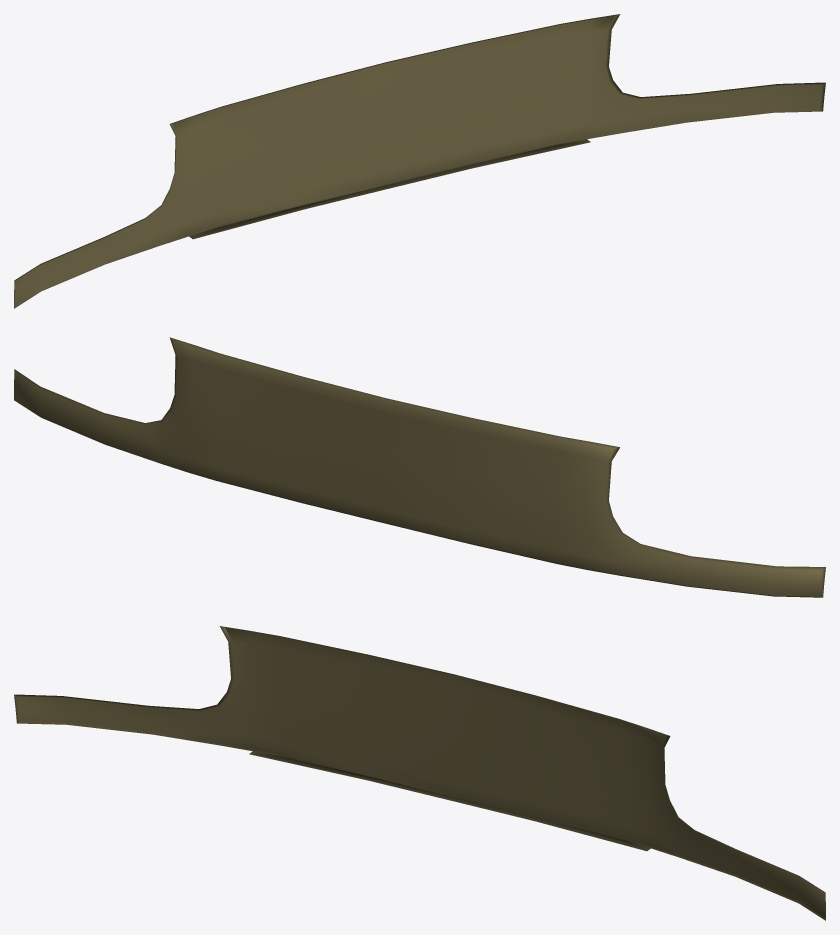
Rendered from MX5_BrakeLight02_Duco.fbx.
3 views of the same model, one above another, from view 1: azimuth 30°, elevation 25°; view 2: azimuth 150°, elevation 25°; view 3: azimuth 330°, elevation 25° (orthographic).
Visible parts, largest first — view 1: MX5_BrakeLight02_Duco; view 2: MX5_BrakeLight02_Duco; view 3: MX5_BrakeLight02_Duco.
Boxes of the visible parts, x1=… form: MX5_BrakeLight02_Duco: x1=14, y1=14, x2=825, y2=308; MX5_BrakeLight02_Duco: x1=14, y1=337, x2=825, y2=597; MX5_BrakeLight02_Duco: x1=14, y1=626, x2=825, y2=920.
Bounding box in the file's own units: 120 × 17.52 × 9.12.
